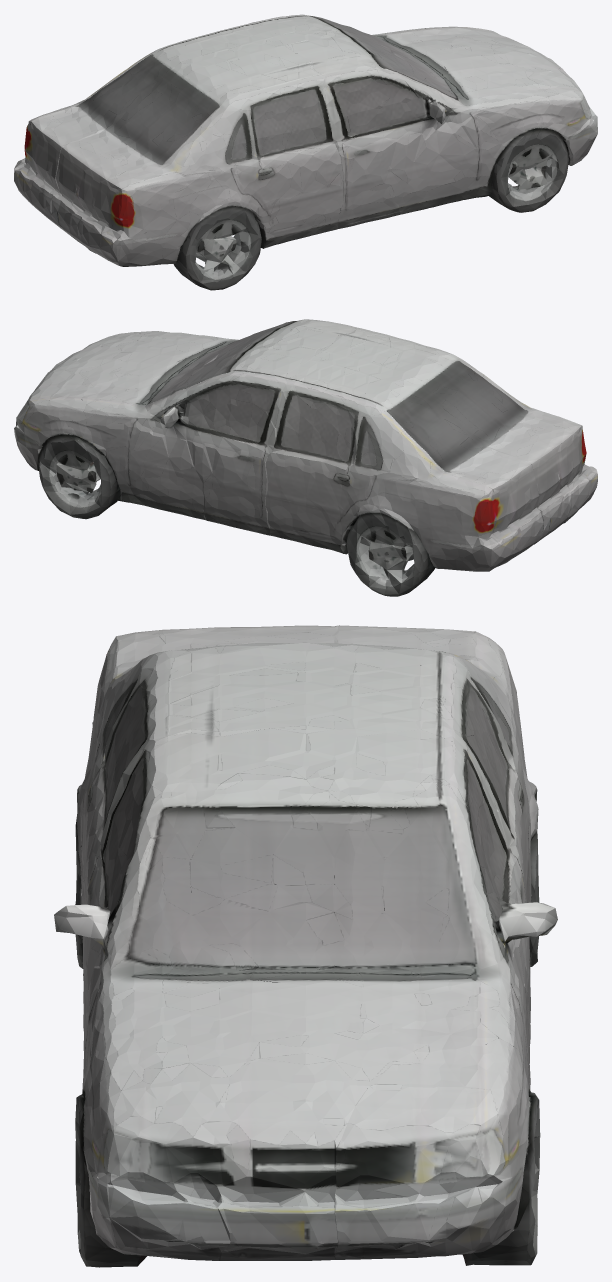
The picture shows the model from 3 angles, top to bottom: view 1: azimuth 30°, elevation 25°; view 2: azimuth 150°, elevation 25°; view 3: azimuth 270°, elevation 25°; orthographic projection. The views are drawn at different scales.
Size of the model in its own units: 0.9021 by 0.298 by 0.3891.
1 material, 1 textured.
